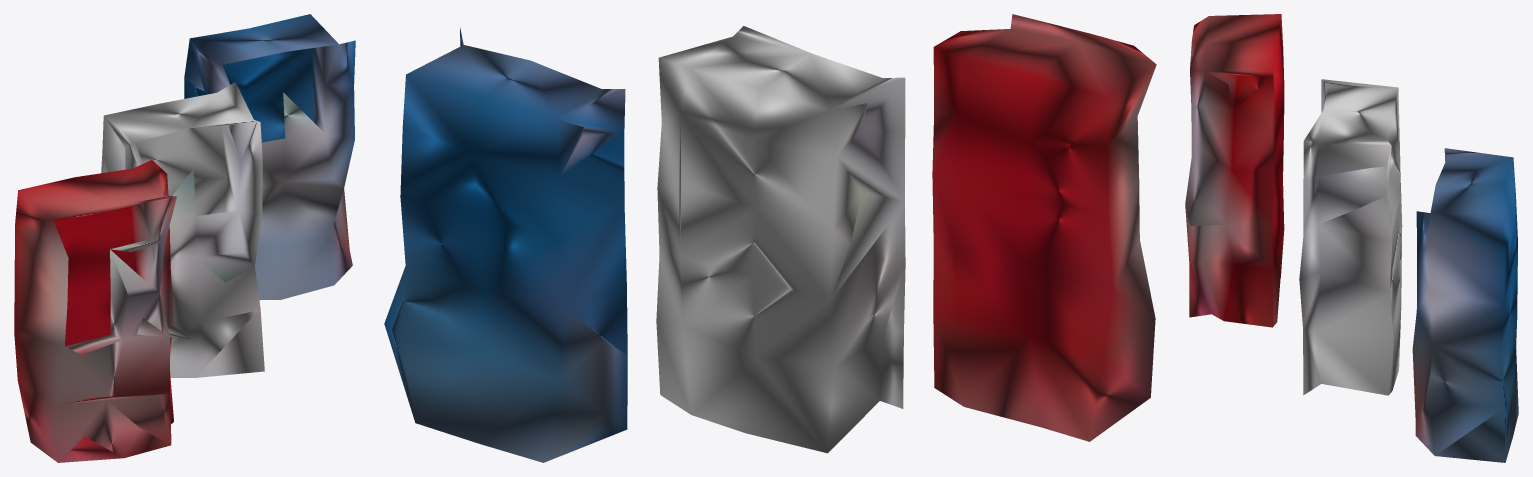
File: city_vending.2.glb
3 renders of one model, left to right at view 1: azimuth 30°, elevation 25°; view 2: azimuth 150°, elevation 25°; view 3: azimuth 270°, elevation 25°, orthographic. The views are drawn at different scales.
Visible parts, largest first — view 1: lod; view 2: lod; view 3: lod.
Part boxes in pixels (left/top/right/bottom): lod: left=14, top=14, right=355, bottom=462; lod: left=384, top=14, right=1156, bottom=462; lod: left=1185, top=14, right=1518, bottom=462.
Size of the model in its own units: 0.9728 by 0.5728 by 0.6634.
